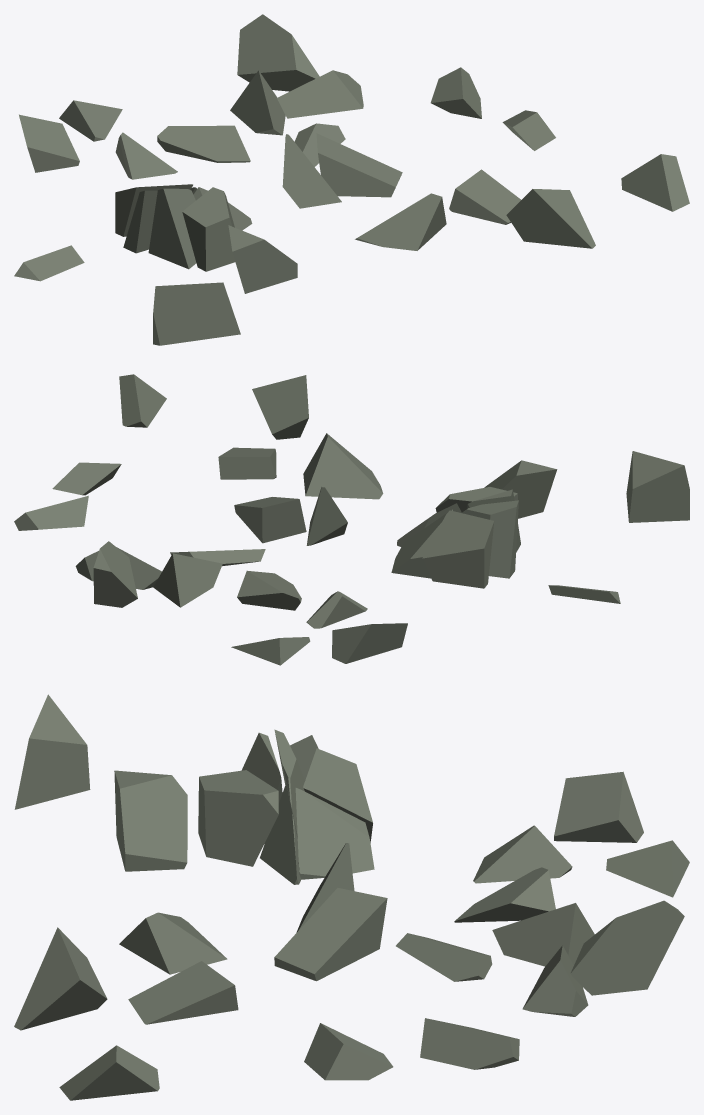
File: Debris_01.fbx
The picture shows the model from 3 angles, top to bottom: view 1: azimuth 30°, elevation 25°; view 2: azimuth 150°, elevation 25°; view 3: azimuth 270°, elevation 25°; orthographic projection. The views are drawn at different scales.
Visible parts, largest first — view 1: Debris_01; view 2: Debris_01; view 3: Debris_01.
Part boxes in pixels (bbox=[...]): Debris_01: bbox=[14, 14, 689, 345]; Debris_01: bbox=[14, 374, 689, 665]; Debris_01: bbox=[14, 694, 689, 1100].
Size of the model in its own units: 375 by 43.15 by 296.
Materials: 1 (1 with a texture image).
